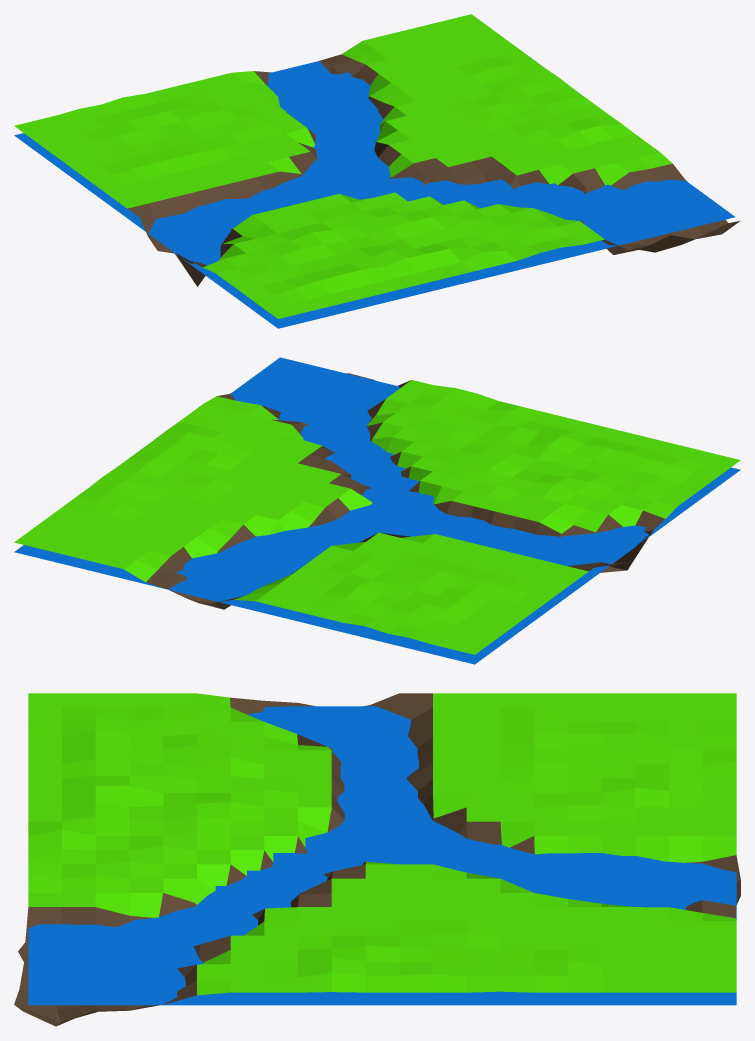
Rendered from newLevel2.fbx.
The picture shows the model from 3 angles, top to bottom: view 1: azimuth 30°, elevation 25°; view 2: azimuth 150°, elevation 25°; view 3: azimuth 270°, elevation 25°; orthographic projection. The views are drawn at different scales.
Visible parts, largest first — view 1: Plane, Plane.001; view 2: Plane, Plane.001; view 3: Plane, Plane.001.
Part boxes in pixels (x1,y1,x2,y2): Plane: (14,14,739,318); Plane.001: (14,61,735,328); Plane: (14,358,740,654); Plane.001: (14,357,740,664); Plane: (14,693,740,1026); Plane.001: (28,706,736,1005).
Size of the model in its own units: 2443 by 271 by 2464.
